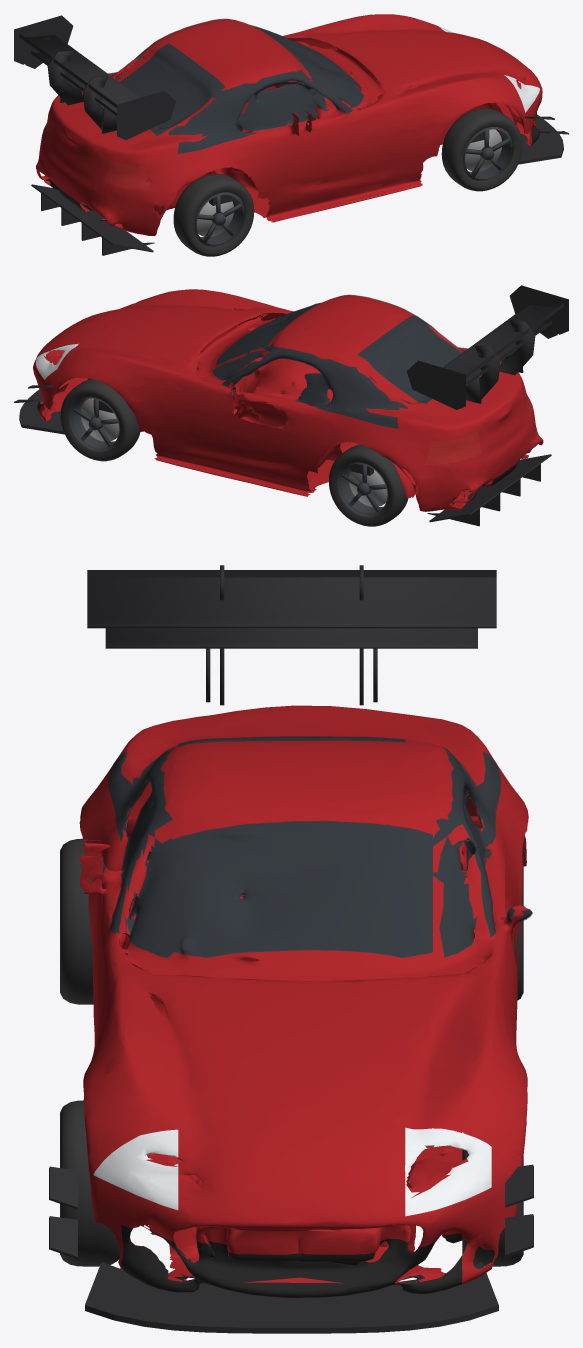
The model's file is mazda_mx5_nd.glb.
3 renders of one model, top to bottom at view 1: azimuth 30°, elevation 25°; view 2: azimuth 150°, elevation 25°; view 3: azimuth 270°, elevation 25°, orthographic. The views are drawn at different scales.
Parts seen in each view (by area): view 1: body, cabin, bumper_rear, wing_rear_up3, wheel_fr_spin, wheel_rr_spin, bumper_front, diffuser, splitter_up, wing_rear_up2; view 2: body, cabin, bumper_rear, wing_rear_up3, wheel_fl_spin, wheel_rl_spin, bumper_front, diffuser, wing_rear_up2, splitter_up, splitter; view 3: body, bumper_front, cabin, wing_rear_up3, splitter_up, splitter, wing_rear_up2, bumper_rear, wheel_rr_spin, wheel_fr_spin, canards, wheel_fl_spin.
Part boxes in pixels (<box>): body: <box>77,14,521,235</box>; cabin: <box>108,18,363,153</box>; bumper_rear: <box>36,95,156,235</box>; wing_rear_up3: <box>14,15,176,139</box>; wheel_fr_spin: <box>441,108,522,191</box>; wheel_rr_spin: <box>173,173,254,256</box>; bumper_front: <box>428,22,542,145</box>; diffuser: <box>31,184,154,255</box>; splitter_up: <box>518,114,563,164</box>; wing_rear_up2: <box>25,37,116,133</box>; body: <box>54,289,505,511</box>; cabin: <box>212,294,467,428</box>; bumper_rear: <box>418,372,543,511</box>; wing_rear_up3: <box>406,285,568,409</box>; wheel_fl_spin: <box>60,379,140,461</box>; wheel_rl_spin: <box>328,444,408,526</box>; bumper_front: <box>33,298,147,421</box>; diffuser: <box>427,454,551,526</box>; wing_rear_up2: <box>466,307,557,403</box>; splitter_up: <box>19,389,64,434</box>; splitter: <box>26,394,61,429</box>; body: <box>78,724,528,1246</box>; bumper_front: <box>88,1101,521,1297</box>; cabin: <box>80,736,532,957</box>; wing_rear_up3: <box>87,565,496,705</box>; splitter_up: <box>85,1262,498,1333</box>; splitter: <box>92,1265,491,1321</box>; wing_rear_up2: <box>105,628,477,702</box>; bumper_rear: <box>128,705,478,817</box>; wheel_rr_spin: <box>60,838,93,1004</box>; wheel_fr_spin: <box>60,1100,120,1266</box>; canards: <box>49,1164,533,1258</box>; wheel_fl_spin: <box>462,1149,523,1266</box>.
Size of the model in its own units: 4.03 by 1.44 by 1.81.
